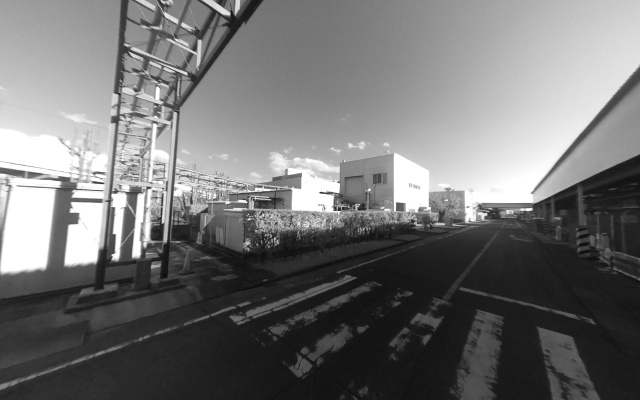bollard: (577, 225, 591, 260)
